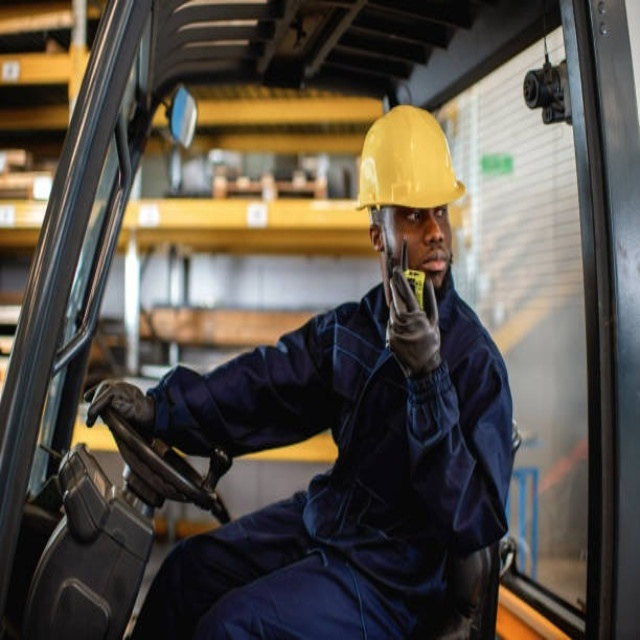Guantes: (385, 263, 440, 370), (78, 371, 158, 432)
Sin_gafas: (398, 200, 453, 231)
Sin_mascara: (424, 247, 452, 280)
